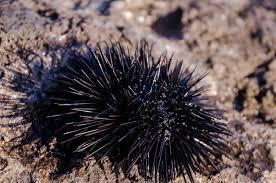urchin: (61, 41, 233, 181)
